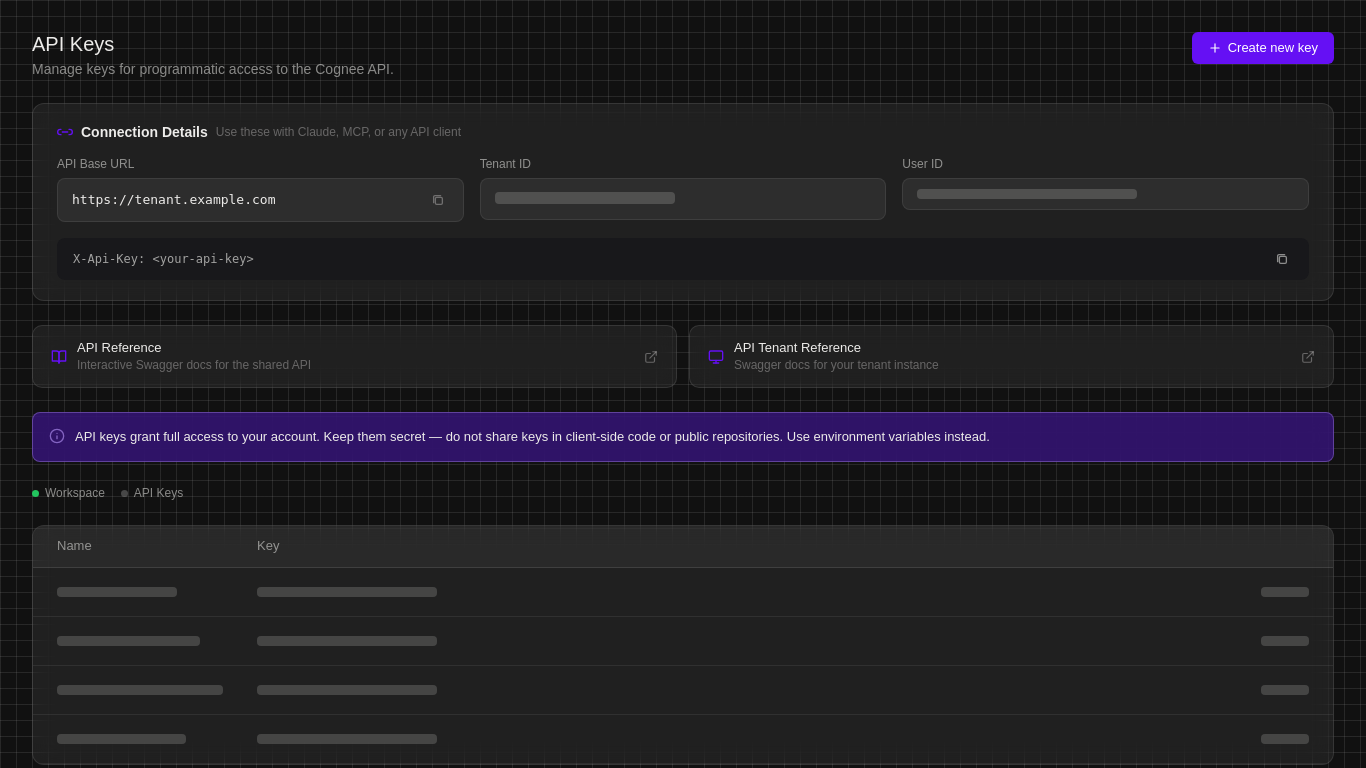
Test case: ApiKeysPage create-key failure › keeps the modal open on failure so the typed name and the error are both still visible
Click the button with test id "api-key-create-open" at [1263, 48], box x1=1192 y1=32 x2=1334 y2=64
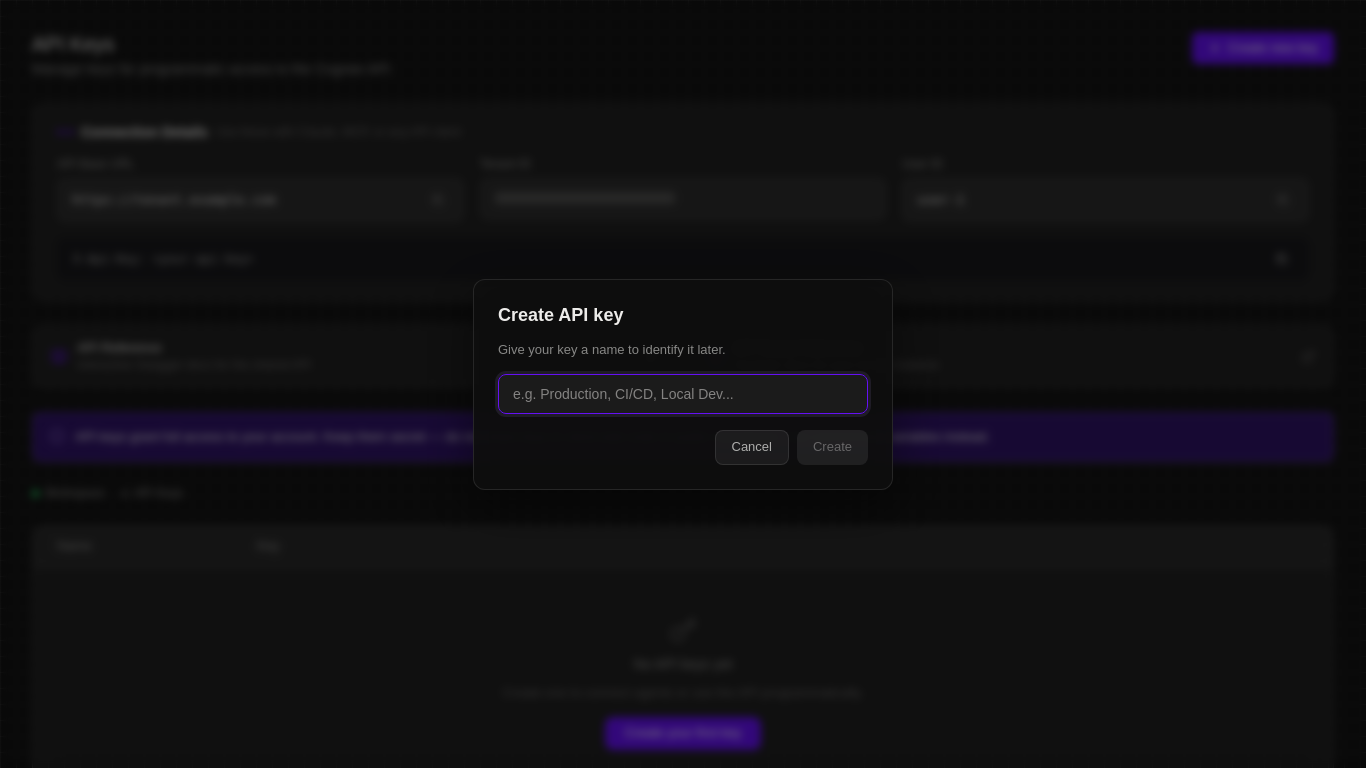
Type "ci-key" into the field with test id "api-key-name-input" at [683, 394], box x1=498 y1=374 x2=868 y2=414
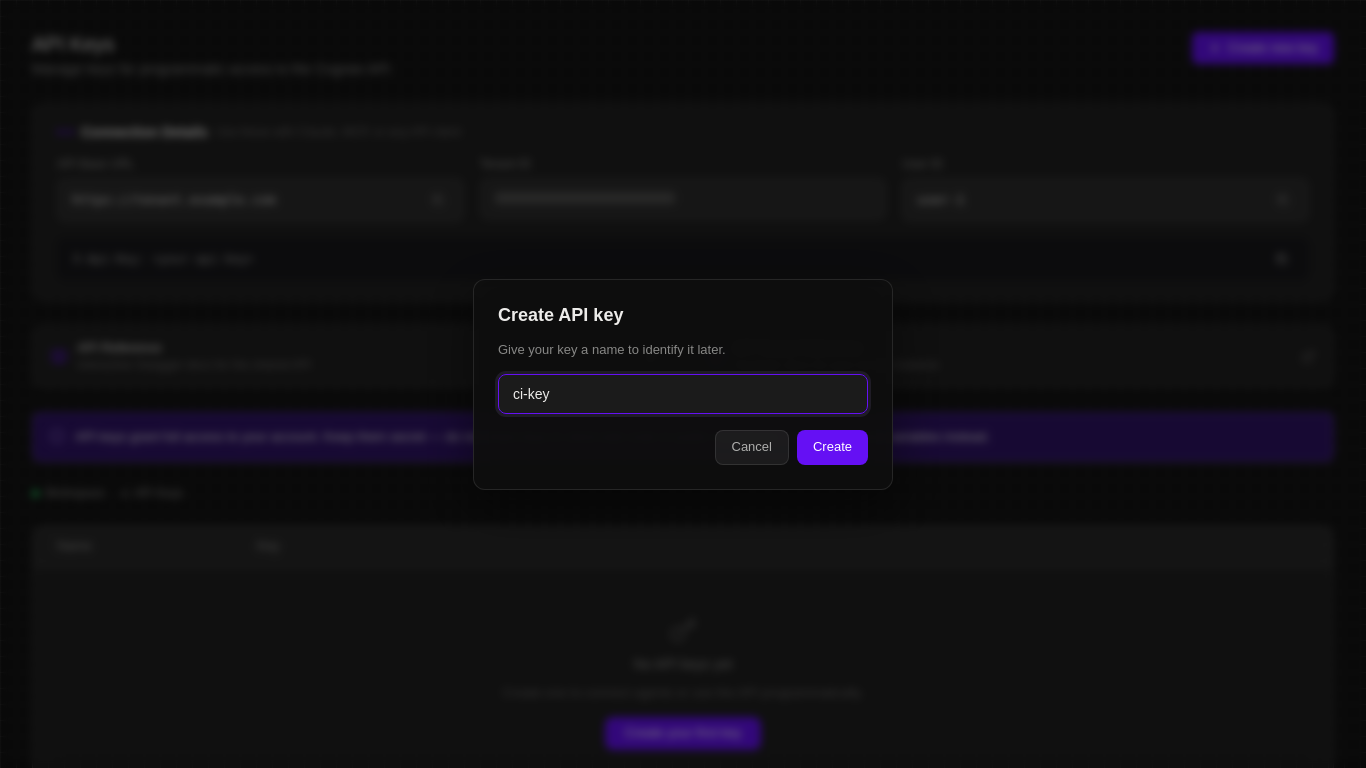
Click the button with test id "api-key-create-submit" at [832, 447], box x1=797 y1=430 x2=868 y2=465
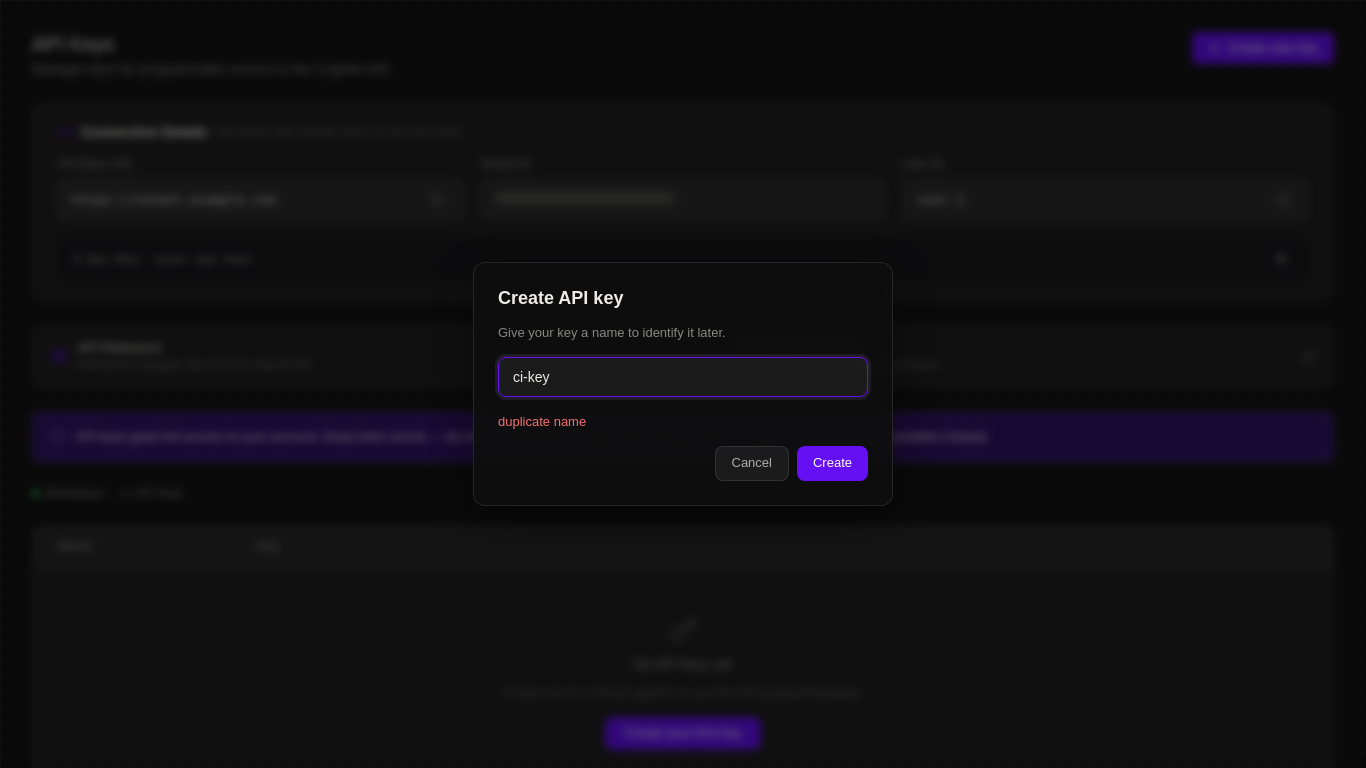
Check: the text "duplicate name" is shown, box x1=498 y1=414 x2=586 y2=429
